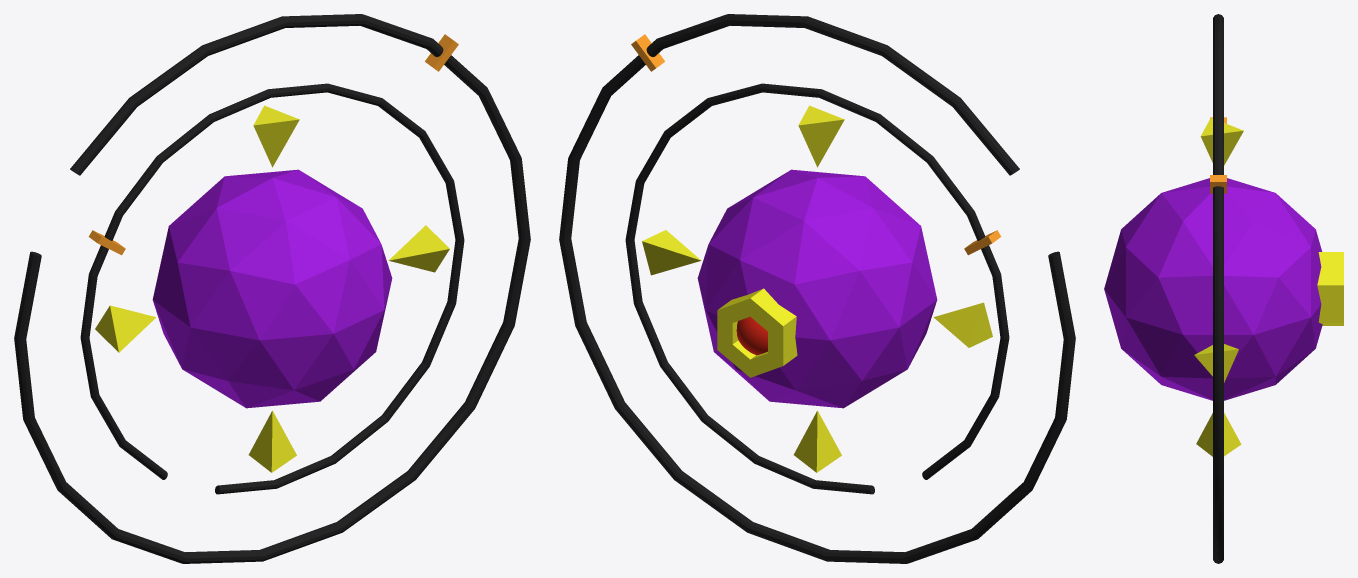
Rendered from boss.obj.
3 views of the same model, side by side, from view 1: azimuth 30°, elevation 25°; view 2: azimuth 150°, elevation 25°; view 3: azimuth 270°, elevation 25° (orthographic). The views are drawn at different scales.
Visible parts, largest first — view 1: ICO球, トーラス, トーラス.001, 円柱.001, 円柱.002, 円柱.003, 円柱; view 2: ICO球, トーラス, トーラス.001, 円柱.004, 円柱.001, 円柱.002, 円柱.003, 円柱, 球; view 3: ICO球, トーラス, 円柱.004, 円柱.001, 円柱, 円柱.003.
Part boxes in pixels (box(x1,y1,x2,y2)): ICO球: box(152, 169, 392, 408); トーラス: box(14, 14, 530, 563); トーラス.001: box(80, 83, 464, 494); 円柱.001: box(248, 410, 296, 472); 円柱.002: box(95, 305, 156, 352); 円柱.003: box(388, 225, 449, 272); 円柱: box(253, 105, 299, 167); ICO球: box(697, 169, 937, 408); トーラス: box(559, 14, 1075, 563); トーラス.001: box(625, 83, 1009, 494); 円柱.004: box(717, 288, 797, 377); 円柱.001: box(793, 410, 841, 472); 円柱.002: box(933, 302, 992, 347); 円柱.003: box(642, 230, 701, 275); 円柱: box(798, 105, 844, 167); 球: box(736, 316, 767, 355); ICO球: box(1104, 178, 1322, 400); トーラス: box(1213, 14, 1223, 563); 円柱.004: box(1317, 252, 1343, 325); 円柱.001: box(1196, 413, 1241, 456); 円柱: box(1200, 118, 1243, 165); 円柱.003: box(1194, 344, 1238, 382).
Size of the model in its own units: 4.86 by 4.86 by 2.1.
1 material, 1 textured.
